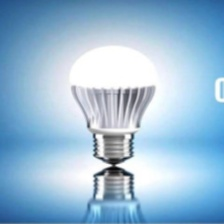light_bulb: (65, 42, 161, 168)
